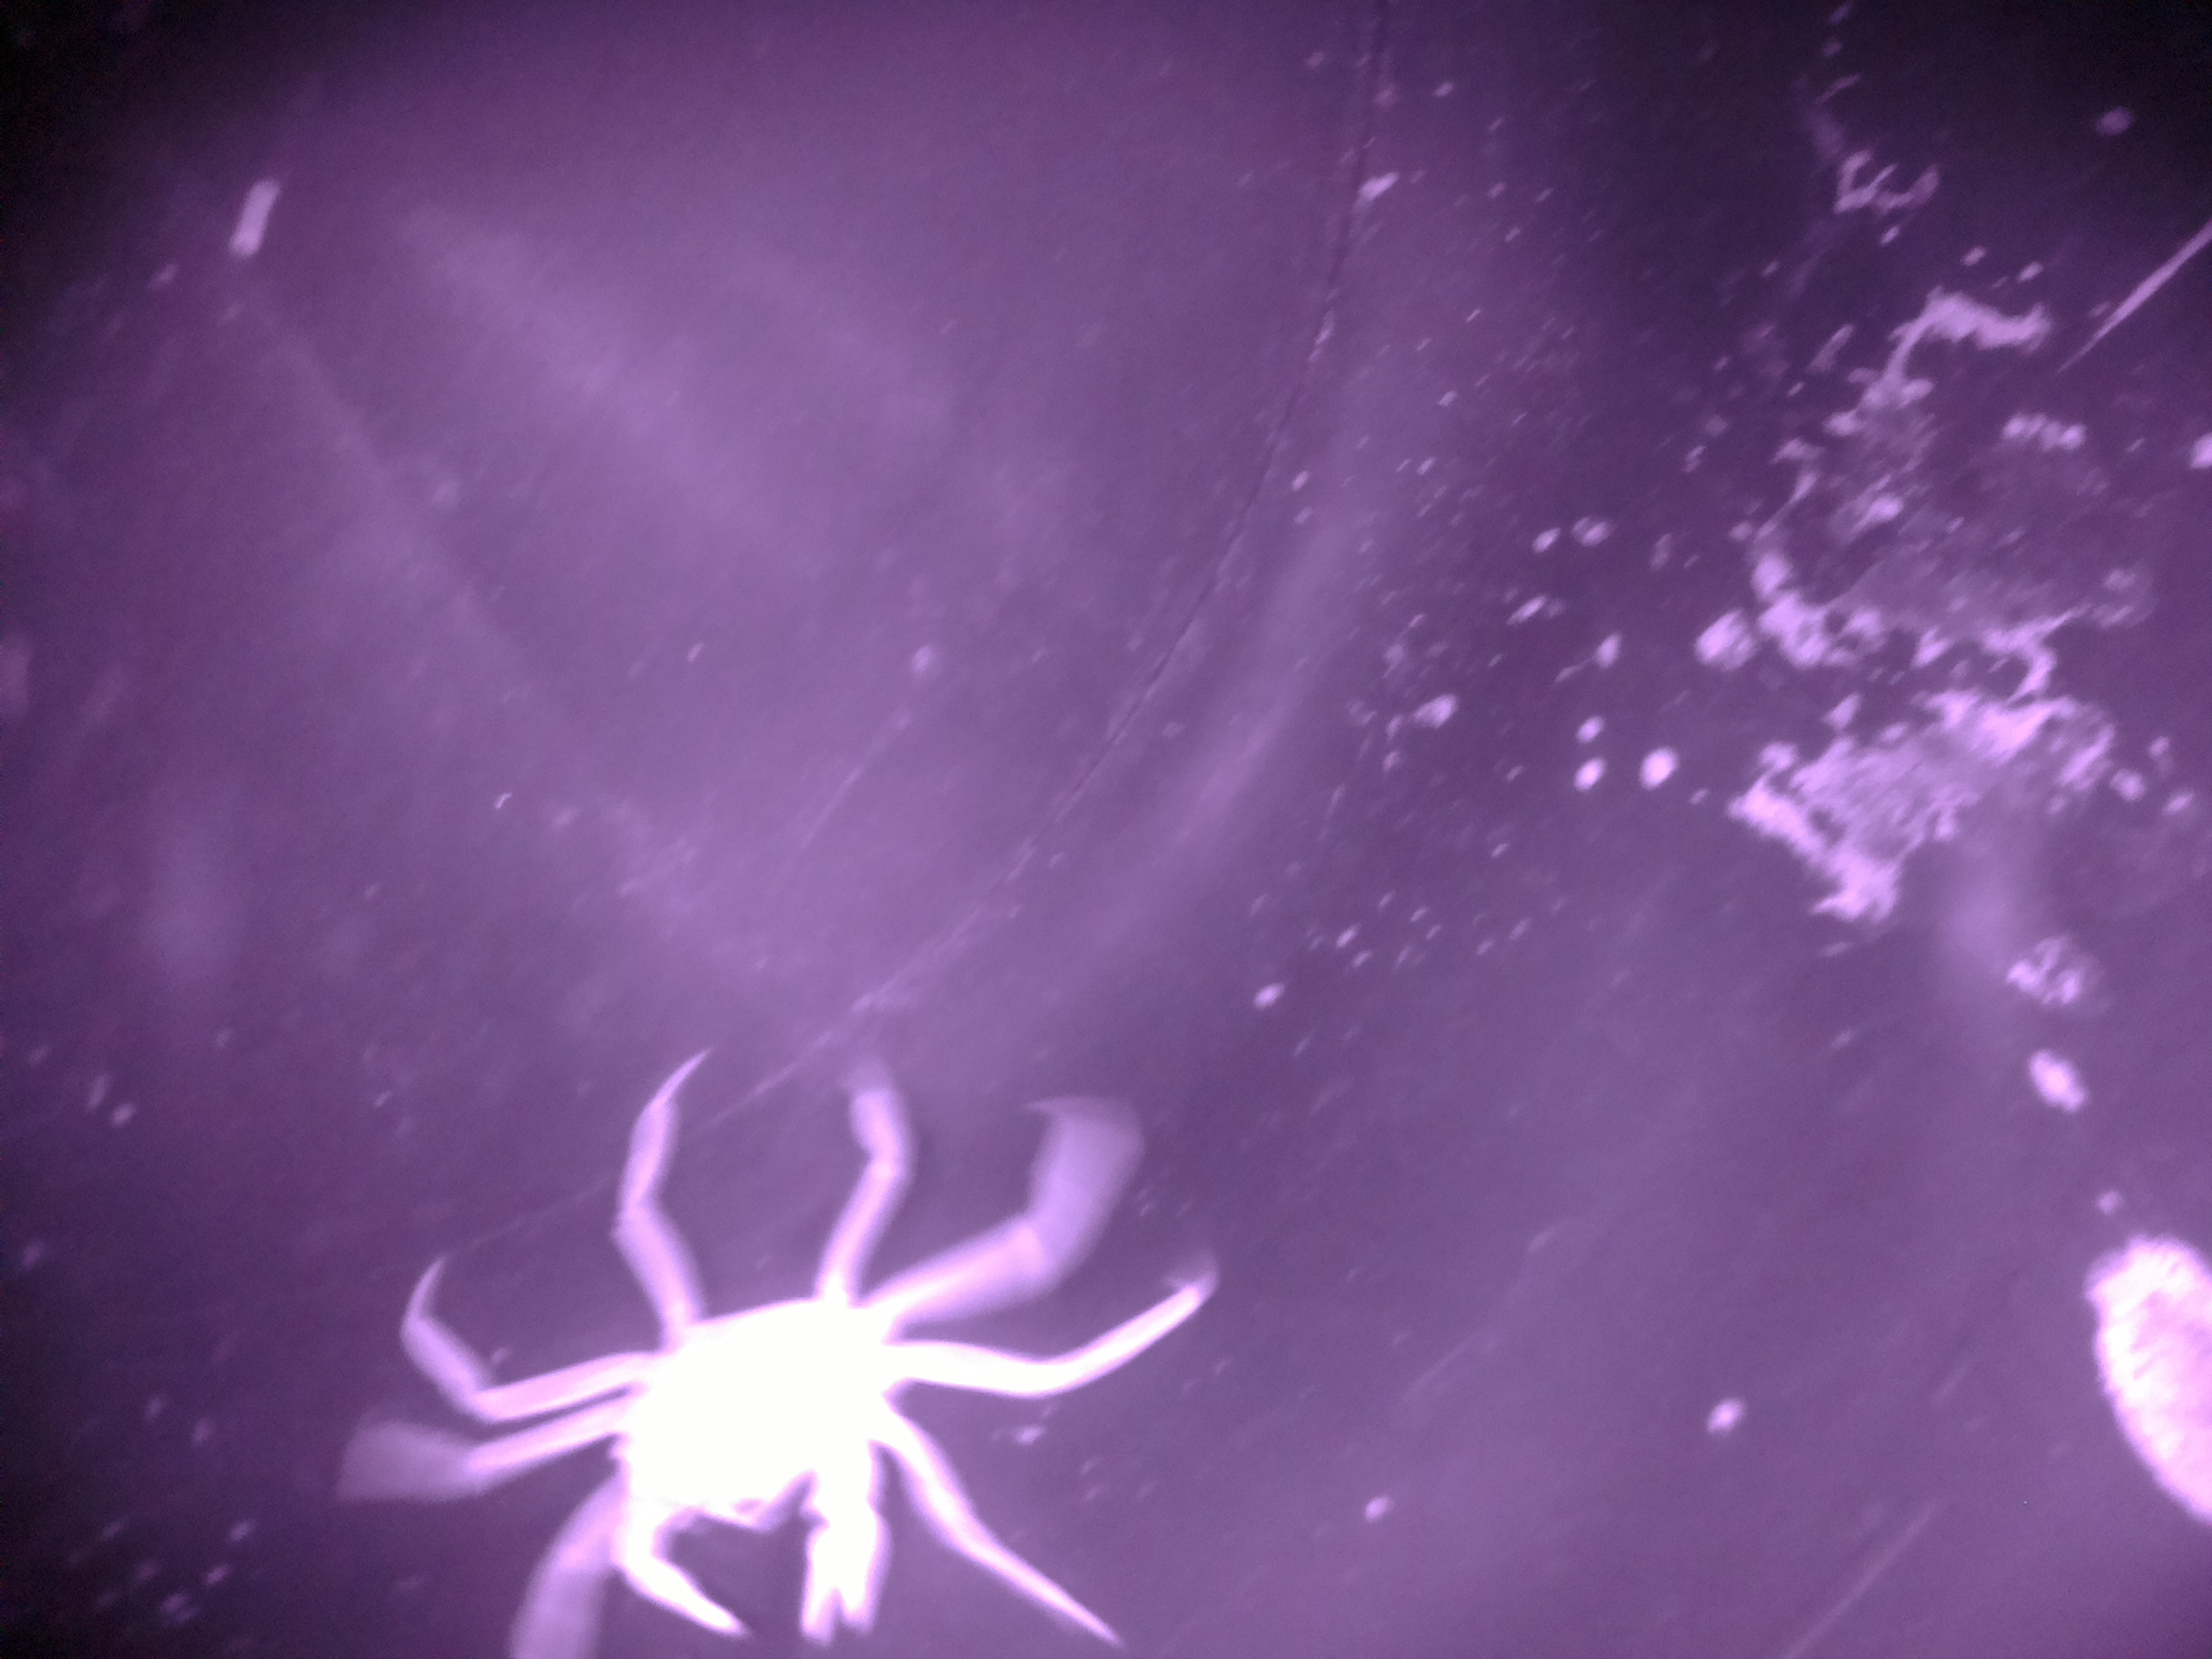Crab: (469, 1253, 1103, 1659)
